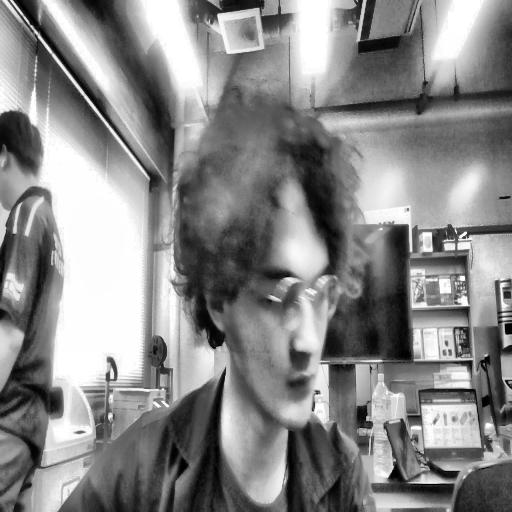Daifuku: (171, 107, 364, 423)
Not Daifuku: (0, 103, 42, 198)
